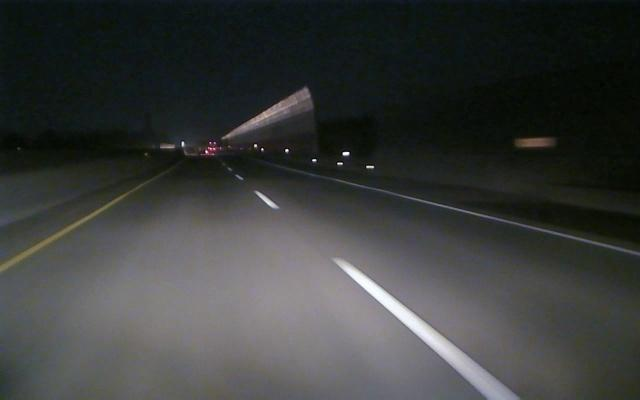lane: (237, 177, 522, 399), (349, 181, 640, 257), (3, 192, 128, 270)
